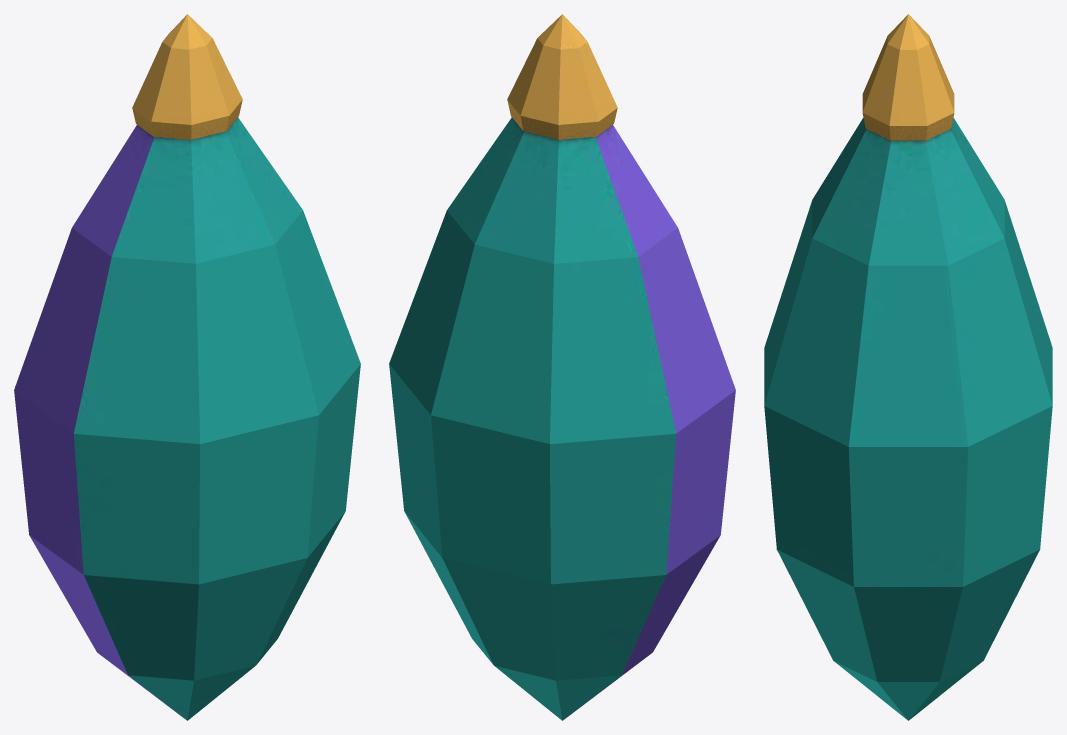
The picture shows the model from 3 angles, left to right: view 1: azimuth 30°, elevation 25°; view 2: azimuth 150°, elevation 25°; view 3: azimuth 270°, elevation 25°; orthographic projection.
Visible parts, largest first — view 1: Seed_translucent_teal, Seed_violet_rim, Seed_polished_brass; view 2: Seed_translucent_teal, Seed_violet_rim, Seed_polished_brass; view 3: Seed_translucent_teal, Seed_polished_brass.
Boxes of the visible parts, left/top/right/bottom form: Seed_translucent_teal: left=74, top=117, right=360, bottom=720; Seed_violet_rim: left=14, top=125, right=175, bottom=711; Seed_polished_brass: left=132, top=14, right=242, bottom=139; Seed_translucent_teal: left=389, top=117, right=675, bottom=720; Seed_violet_rim: left=574, top=125, right=735, bottom=711; Seed_polished_brass: left=507, top=14, right=617, bottom=139; Seed_translucent_teal: left=764, top=118, right=1052, bottom=720; Seed_polished_brass: left=862, top=14, right=954, bottom=140.
Size of the model in its own units: 0.1275 by 0.3 by 0.1109.
Materials: 4 (3 with a texture image).
